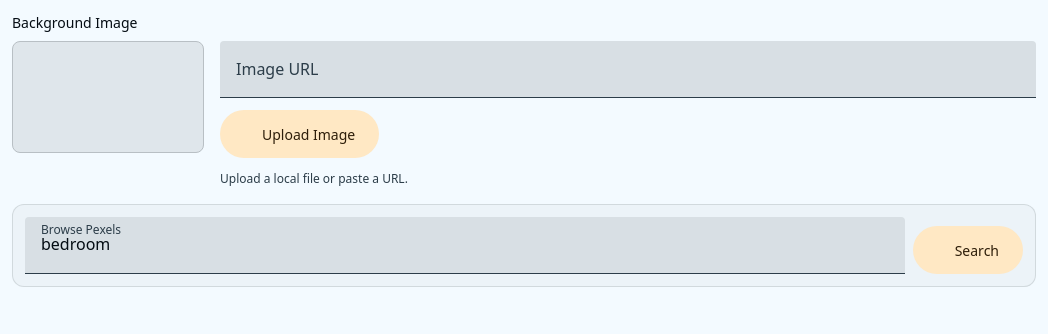
Test: ImagePicker › shows a friendly message when Pexels is unavailable
Click the button "Search". click: click(968, 250)
box: top-left (913, 226), bottom-right (1023, 274)
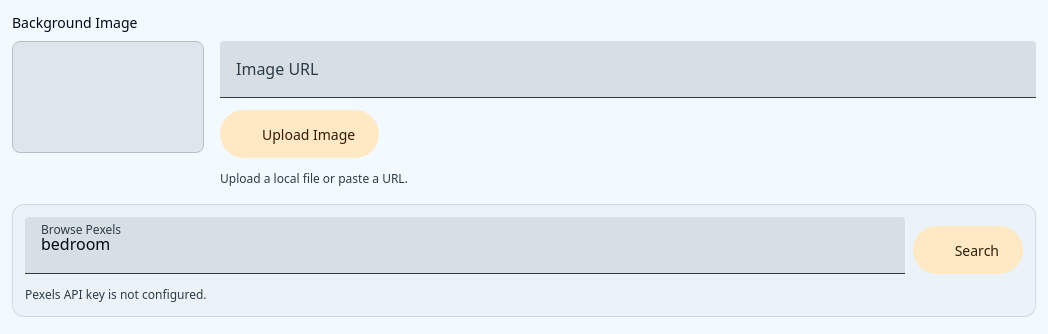
Expected: the text "Pexels API key is not configured." is shown, top-left (25, 286), bottom-right (207, 303)
